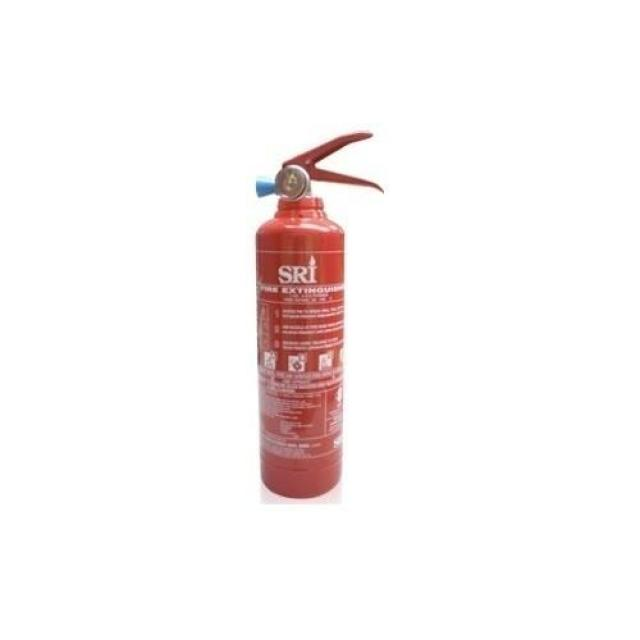fire_extinguisher: (238, 123, 383, 500)
